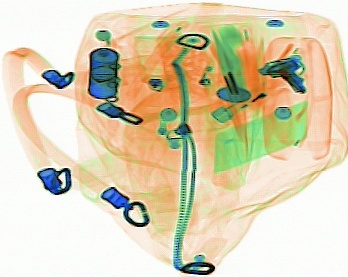lighter: (210, 73, 292, 121)
